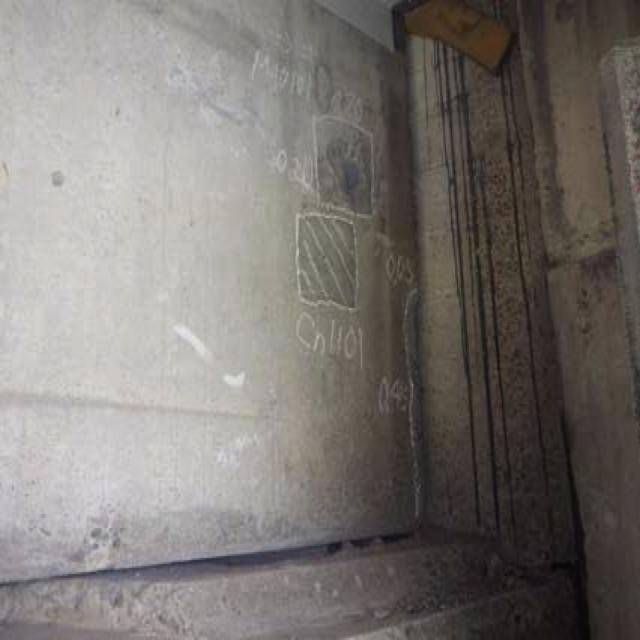spalling: (273, 108, 380, 316)
